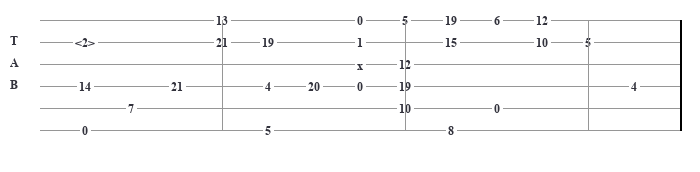0: (82, 124, 92, 137), (357, 80, 367, 93), (357, 14, 367, 27), (494, 102, 504, 115)
1: (357, 36, 367, 49)
10: (399, 102, 415, 115), (536, 36, 552, 49)
12: (399, 58, 415, 71), (536, 14, 552, 27)
13: (216, 14, 232, 27)
14: (79, 80, 95, 93)
15: (445, 36, 461, 49)
19: (262, 36, 278, 49), (399, 80, 415, 93), (445, 14, 461, 27)
20: (308, 80, 324, 93)
21: (171, 80, 187, 93), (216, 36, 232, 49)
4: (265, 80, 275, 93), (631, 80, 641, 93)
5: (265, 124, 275, 137), (402, 14, 412, 27), (585, 36, 595, 49)
6: (494, 14, 504, 27)
7: (128, 102, 138, 115)
8: (448, 124, 458, 137)
harmonic: (75, 36, 99, 49)
x: (357, 59, 367, 69)
